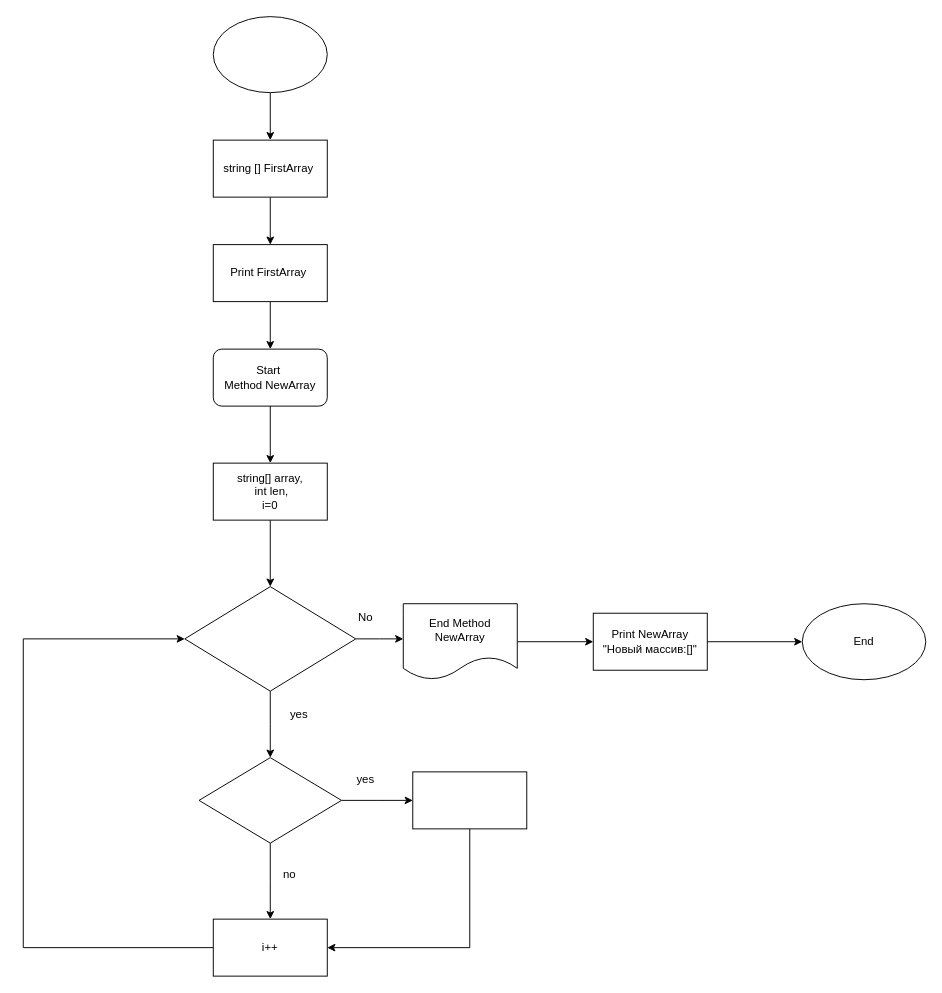
The diagram is 942 pixels wide and 993 high, and some of its shapes have lost their labels. The shapes that lost their labels are listed below. From the top down, each one's centre as x and y in pixels, then its label:
(x=269, y=54): Start
(x=270, y=638): i<array.length
(x=270, y=800): len>=array[i].Length
(x=469, y=800): Print array[i}
